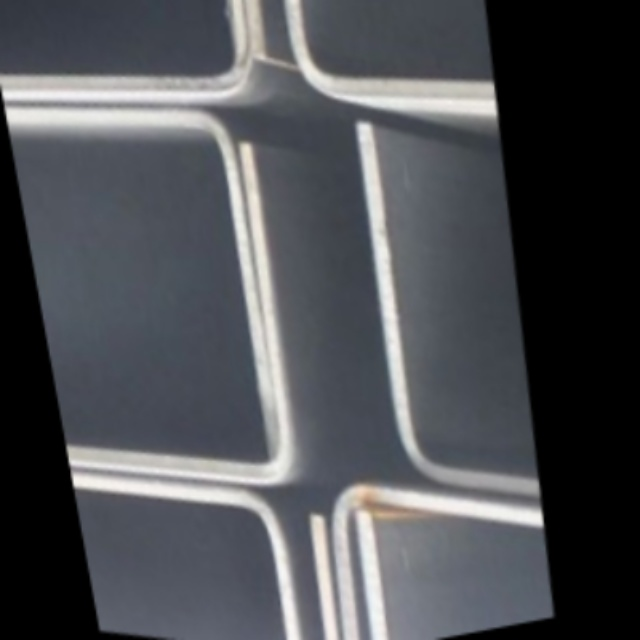Shveller: (8, 71, 302, 517), (4, 55, 287, 485), (337, 64, 562, 522), (73, 435, 339, 640), (72, 436, 310, 640), (322, 455, 560, 640), (0, 0, 260, 160), (0, 0, 257, 154), (233, 0, 501, 124), (265, 0, 504, 134), (355, 489, 558, 640)
